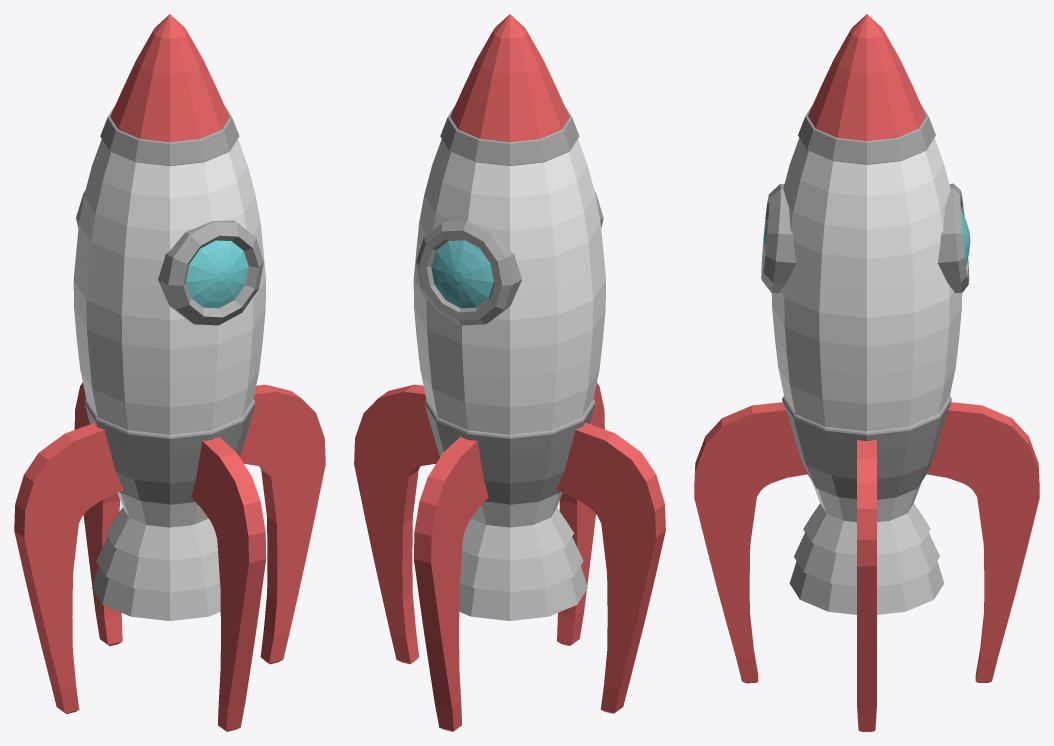
The model's file is rocket3.glb.
The picture shows the model from 3 angles, left to right: view 1: azimuth 30°, elevation 25°; view 2: azimuth 150°, elevation 25°; view 3: azimuth 270°, elevation 25°; orthographic projection.
Parts seen in each view (by area): view 1: Окружность; view 2: Окружность; view 3: Окружность.
Boxes of the visible parts, x1=… form: Окружность: x1=14, y1=14, x2=325, y2=731; Окружность: x1=354, y1=14, x2=665, y2=731; Окружность: x1=694, y1=14, x2=1039, y2=731.
Size of the model in its own units: 4.47 by 9.51 by 4.47.
Materials: 1 (1 with a texture image).
